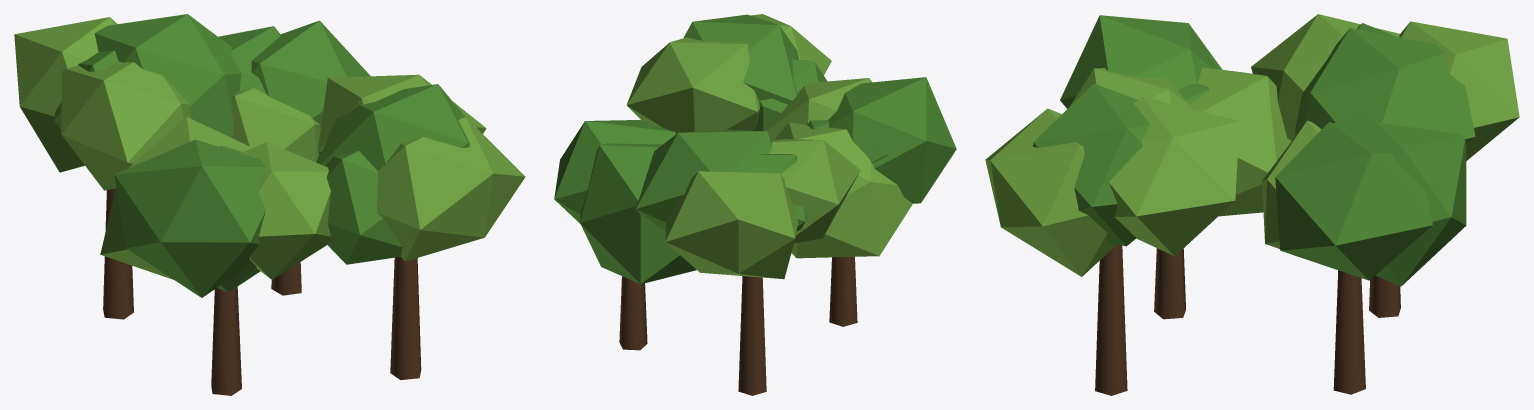
The model's file is sawyer_temperate_grove_e.glb.
The picture shows the model from 3 angles, left to right: view 1: azimuth 30°, elevation 25°; view 2: azimuth 150°, elevation 25°; view 3: azimuth 270°, elevation 25°; orthographic projection. The views are drawn at different scales.
Visible parts, largest first — view 1: oak_1_crown2, oak_0_crown1, oak_2_crown3, oak_2_crown2, oak_1_crown1, oak_0_crown0, oak_2_crown1, oak_3_crown0, oak_0_crown2, oak_3_crown1, oak_0_trunk, oak_1_crown3 (+7 smaller); view 2: oak_2_crown1, oak_0_crown3, oak_1_crown2, oak_3_crown2, oak_1_crown3, oak_2_crown2, oak_2_crown3, oak_0_crown0, oak_3_crown0, oak_2_trunk, oak_1_crown1, oak_3_trunk (+4 smaller); view 3: oak_3_crown0, oak_0_crown3, oak_2_crown2, oak_0_crown1, oak_3_crown2, oak_0_crown0, oak_1_crown2, oak_1_crown3, oak_2_crown1, oak_2_crown3, oak_0_trunk, oak_3_trunk (+5 smaller).
Part boxes in pixels (<box>): oak_1_crown2: <box>114,139,266,297</box>; oak_0_crown1: <box>376,117,525,261</box>; oak_2_crown3: <box>61,61,191,190</box>; oak_2_crown2: <box>94,14,241,138</box>; oak_1_crown1: <box>241,142,330,279</box>; oak_0_crown0: <box>317,84,469,170</box>; oak_2_crown1: <box>14,17,117,172</box>; oak_3_crown0: <box>251,20,370,128</box>; oak_0_crown2: <box>316,151,402,264</box>; oak_3_crown1: <box>232,88,320,162</box>; oak_0_trunk: <box>390,257,421,380</box>; oak_1_crown3: <box>100,117,252,279</box>; oak_2_crown1: <box>665,171,797,279</box>; oak_0_crown3: <box>626,37,759,133</box>; oak_1_crown2: <box>828,77,956,203</box>; oak_3_crown2: <box>580,143,696,284</box>; oak_1_crown3: <box>774,122,912,258</box>; oak_2_crown2: <box>635,130,772,230</box>; oak_2_crown3: <box>768,139,860,243</box>; oak_0_crown0: <box>683,14,799,104</box>; oak_3_crown0: <box>554,120,675,223</box>; oak_2_trunk: <box>738,276,766,395</box>; oak_1_crown1: <box>764,78,872,140</box>; oak_3_trunk: <box>619,276,647,350</box>; oak_3_crown0: <box>1275,122,1432,280</box>; oak_0_crown3: <box>1109,96,1239,256</box>; oak_2_crown2: <box>1295,28,1475,144</box>; oak_0_crown1: <box>985,108,1116,276</box>; oak_3_crown2: <box>1334,117,1466,286</box>; oak_0_crown0: <box>1033,84,1150,246</box>; oak_1_crown2: <box>1060,15,1222,108</box>; oak_1_crown3: <box>1187,67,1291,216</box>; oak_2_crown1: <box>1399,21,1519,160</box>; oak_2_crown3: <box>1251,14,1399,141</box>; oak_0_trunk: <box>1095,244,1127,395</box>; oak_3_trunk: <box>1333,270,1365,394</box>.
Bounding box in the file's own units: 3.83 × 2.94 × 5.
